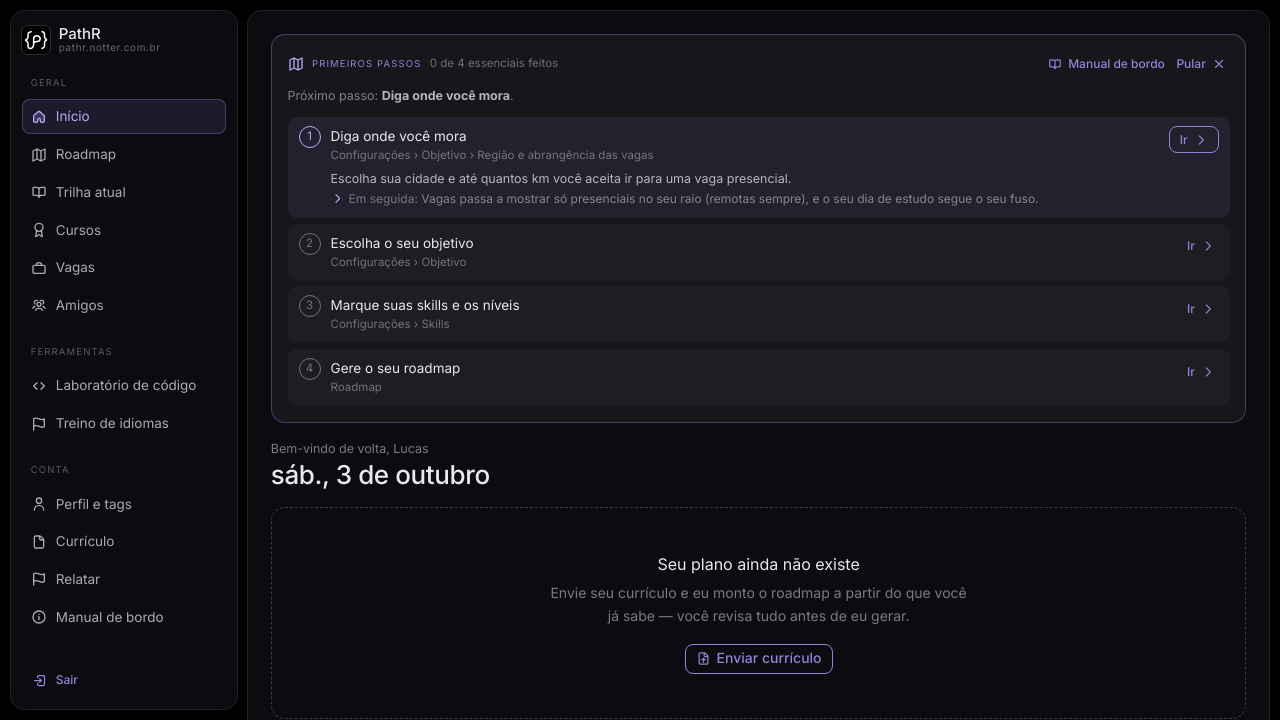
Test case: barra lateral › navega entre telas
The image size is (1280, 720).
Click the button "Trilha atual" at (124, 192), box [22, 175, 226, 210]
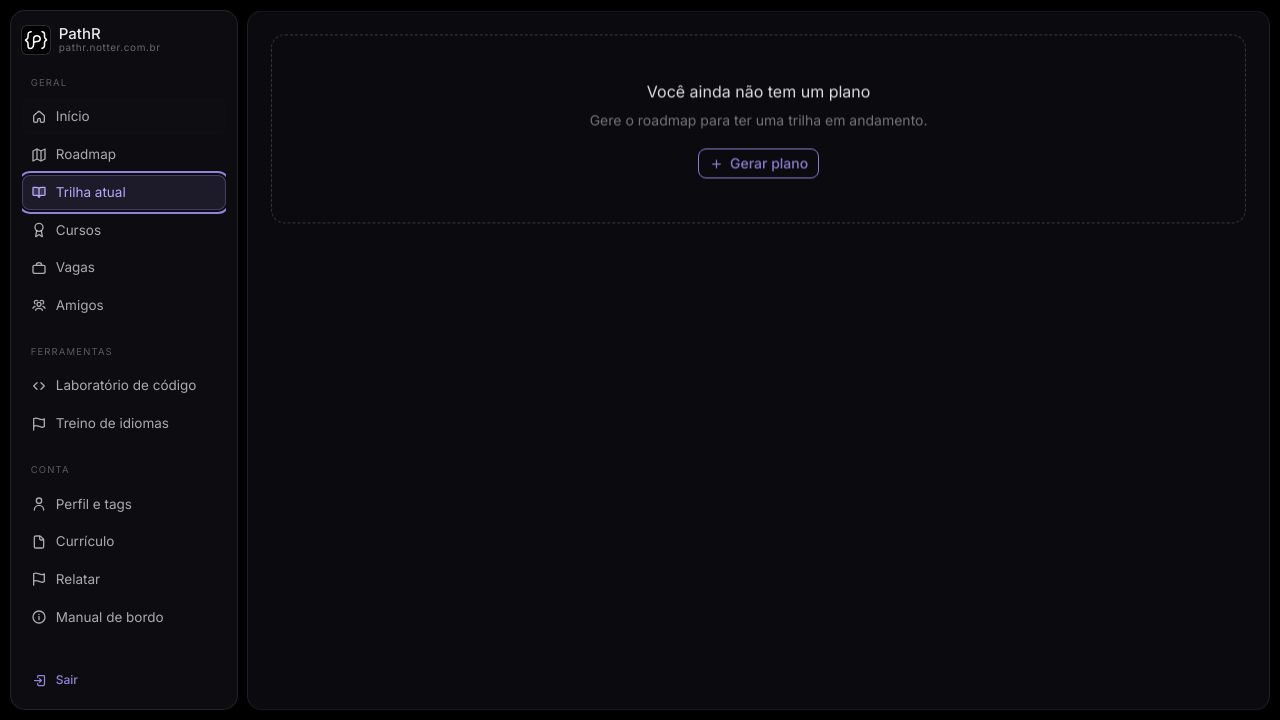
Check: the text "Você ainda não tem um plano" is shown, box [647, 81, 870, 101]
